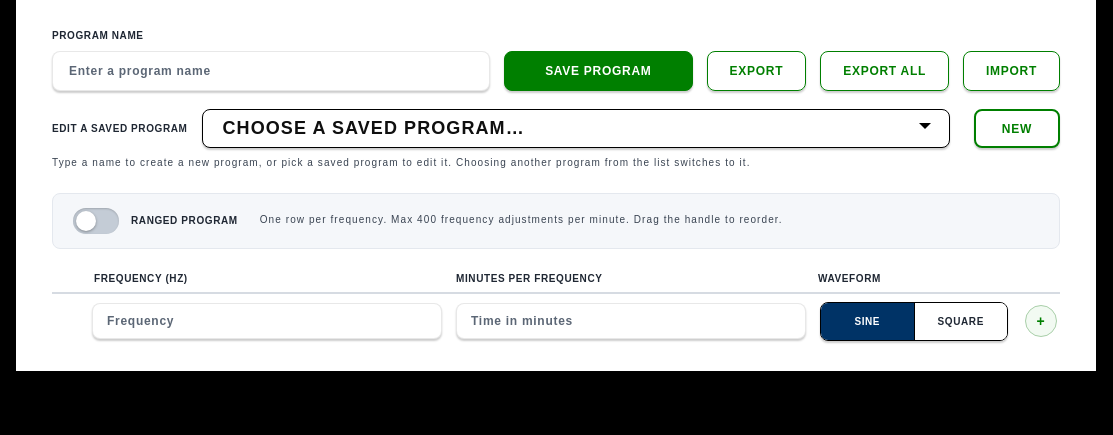
Test case: ProgramEditor › switches to range mode when checkbox is checked
The width and height of the screenshot is (1113, 435).
What coordinates should you click on to do the following:
click the checkbox
I would click on:
 (155, 220)
Its box is [73, 208, 238, 234].
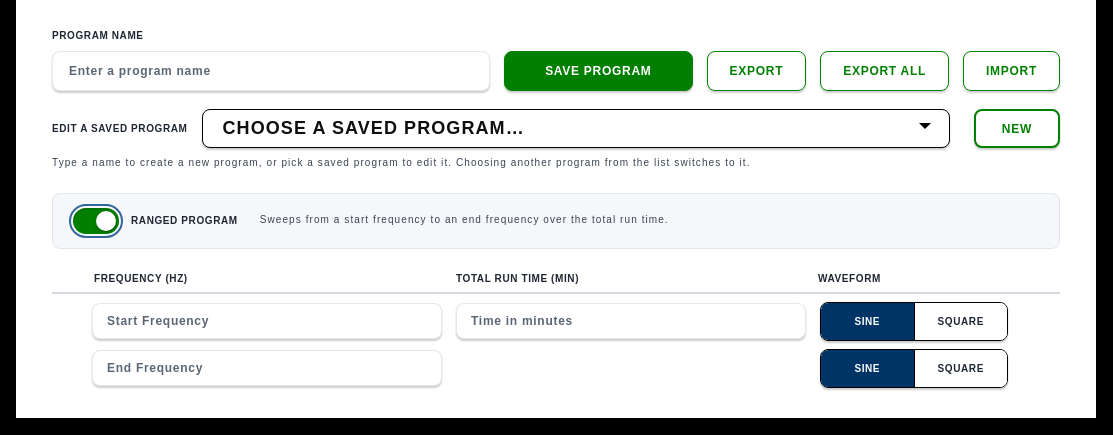
expect the checkbox is checked: met, box [73, 208, 238, 234]
expect the number field with placeholder "Start Frequency" is shown: met, box [92, 303, 442, 339]
expect the number field with placeholder "End Frequency" is shown: met, box [92, 350, 442, 386]
